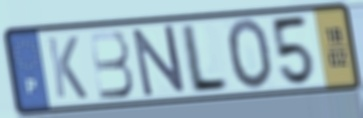5: (269, 12, 318, 88)
B: (86, 28, 137, 102)
K: (44, 34, 90, 101)
L: (181, 21, 231, 96)
N: (129, 23, 188, 101)
O: (225, 16, 276, 93)
